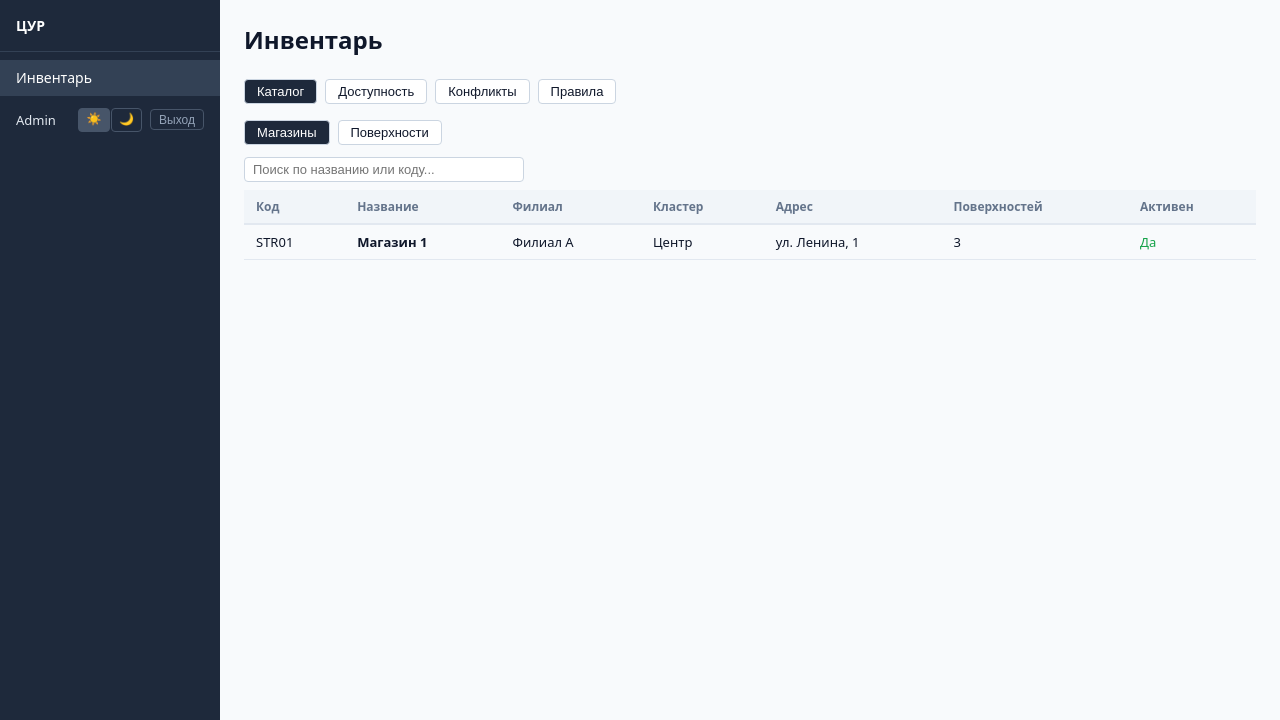
Test case: InventoryPage — Rules CRUD › creates rule and shows success + row
The image size is (1280, 720).
Click the button "Правила" at coordinates (577, 92), box [538,79,616,104]
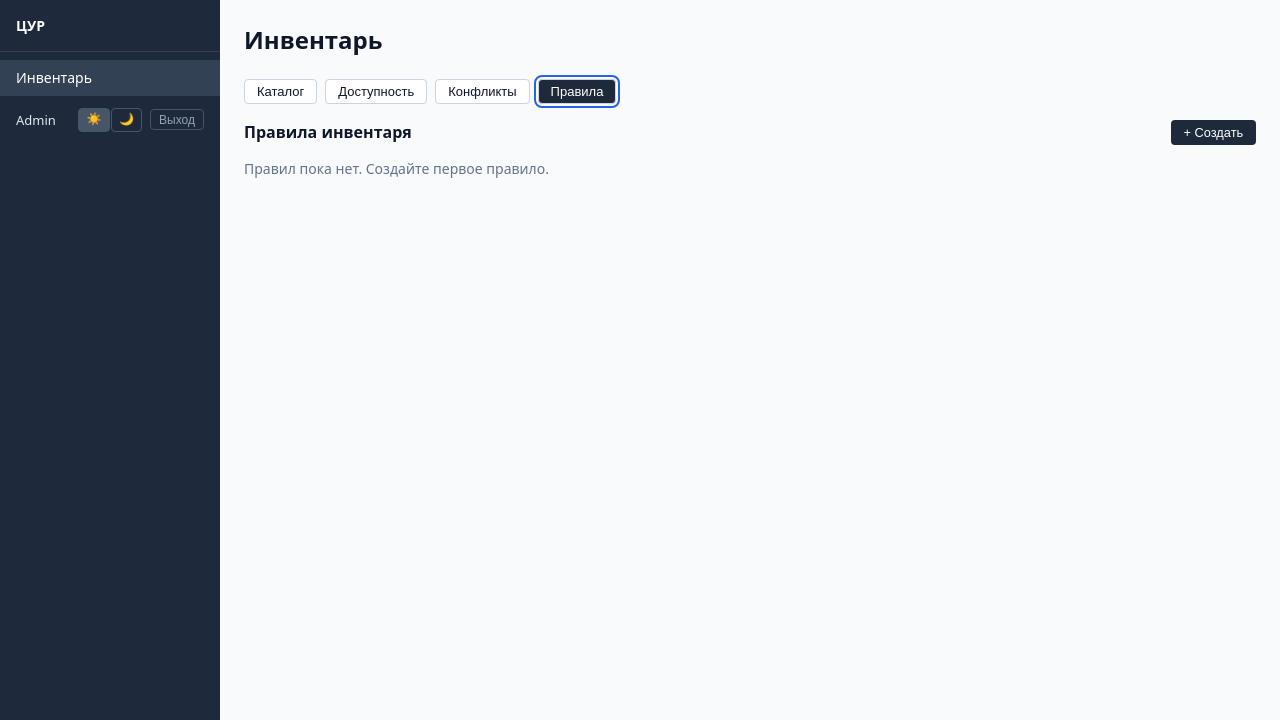
Now the button "+ Создать" is shown
Click the button "+ Создать" at coordinates (1213, 132), box [1171,120,1256,145]
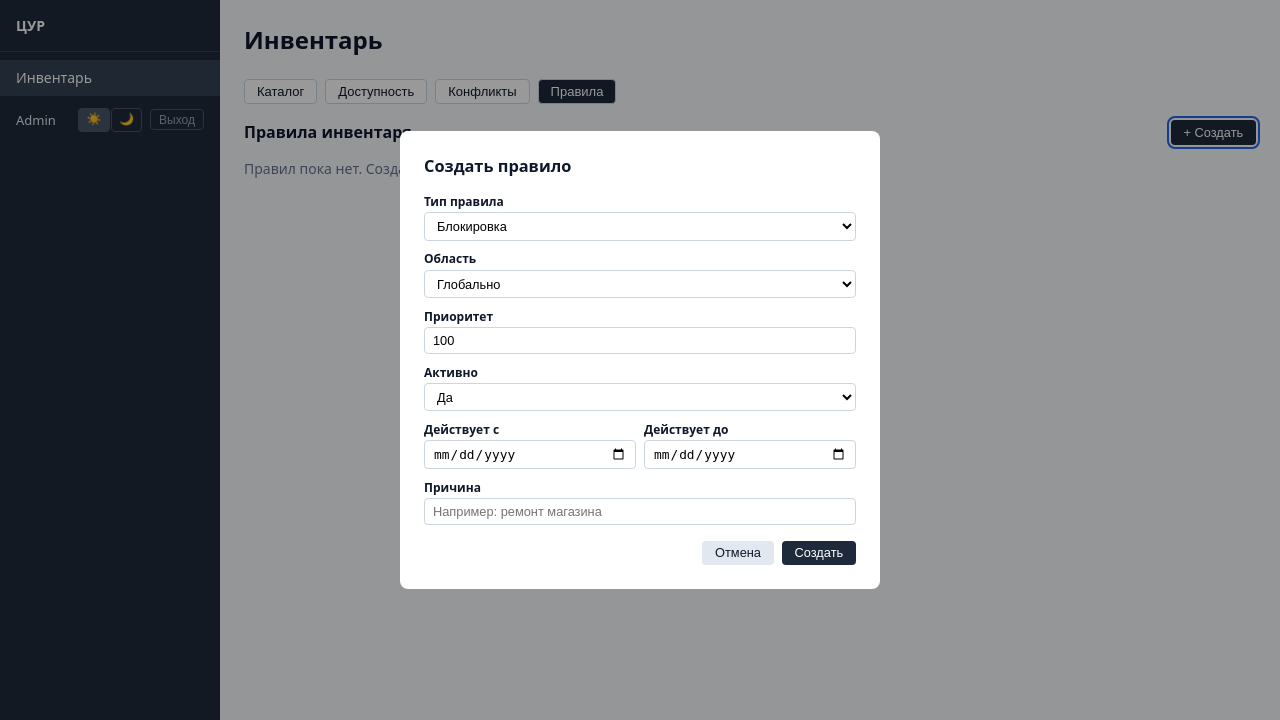
Note: Select max_sov
Select "Макс. доля показов" in the dropdown with test id "inventory-rule-type" at coordinates (640, 226), box [424,212,856,241]
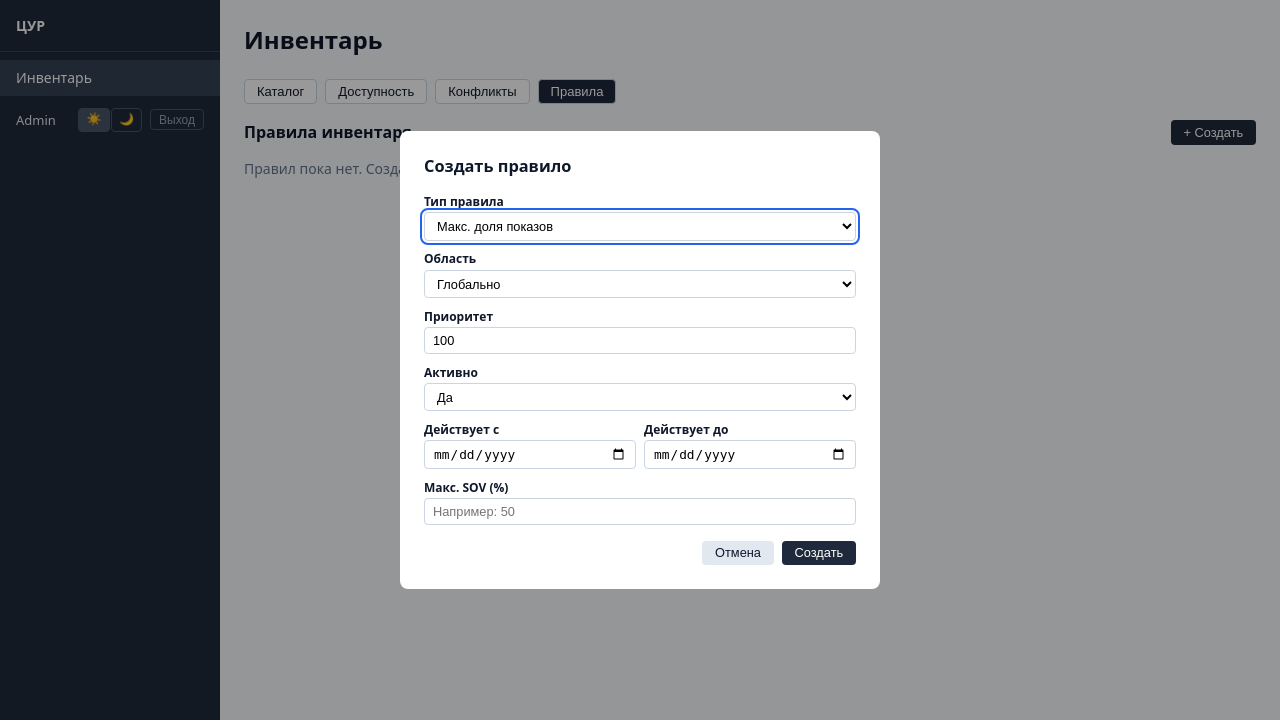
Note: Fill value
Type "35" into the number field with test id "inventory-rule-value" at coordinates (640, 511), box [424,498,856,525]
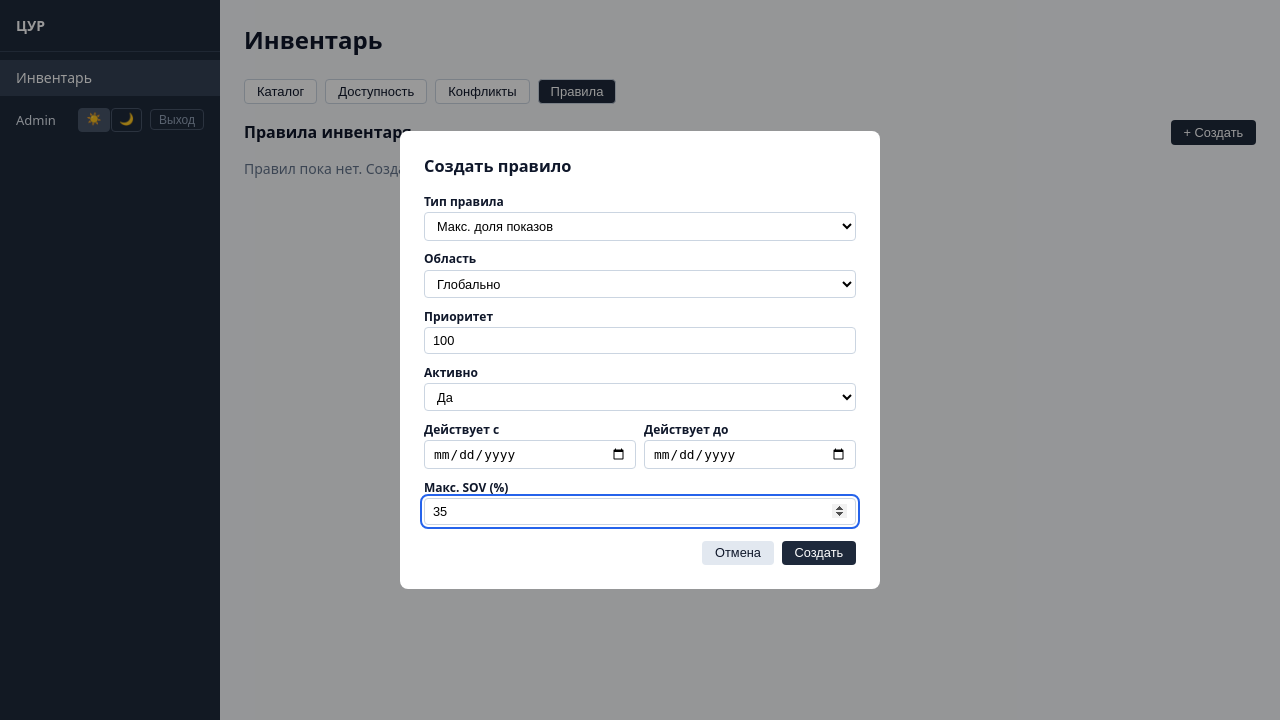
Note: Set priority
Replace the text in the number field with test id "inventory-rule-priority" with "17" at coordinates (640, 341), box [424,327,856,354]
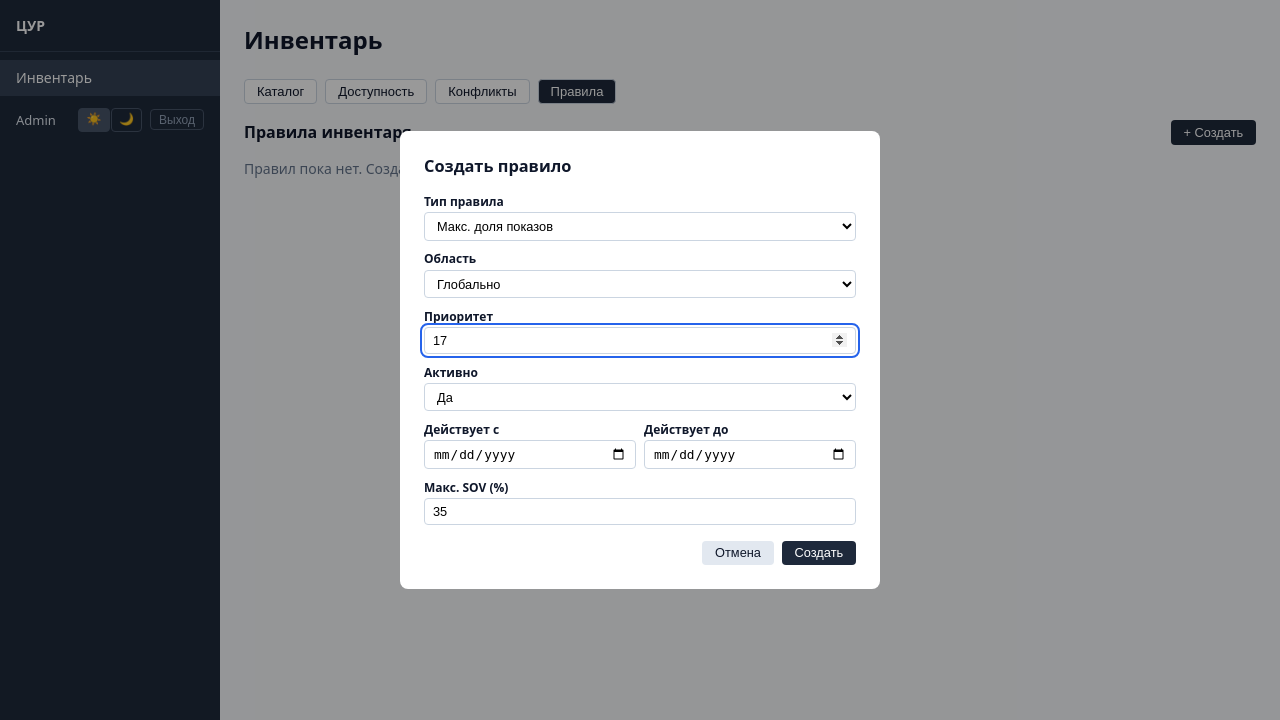
Click the button with test id "inventory-rule-submit" at coordinates (819, 553), box [782,541,856,565]
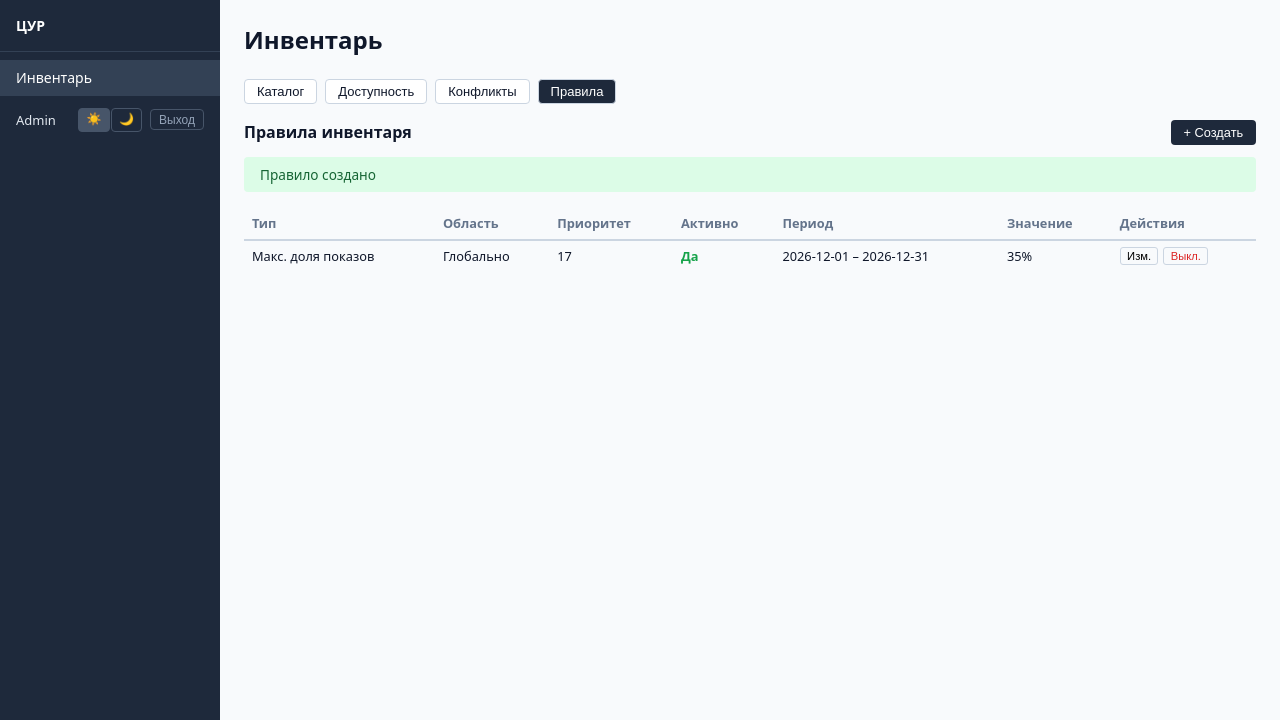
Now the text "Правило создано" is shown, box [244,157,1256,192]
Now the row with test id "inventory-rule-row-rule-1" is shown, box [244,240,1256,271]
Now the cell with test id "inventory-rule-row-type-rule-1" reads "Макс. доля показов", box [252,247,374,265]
